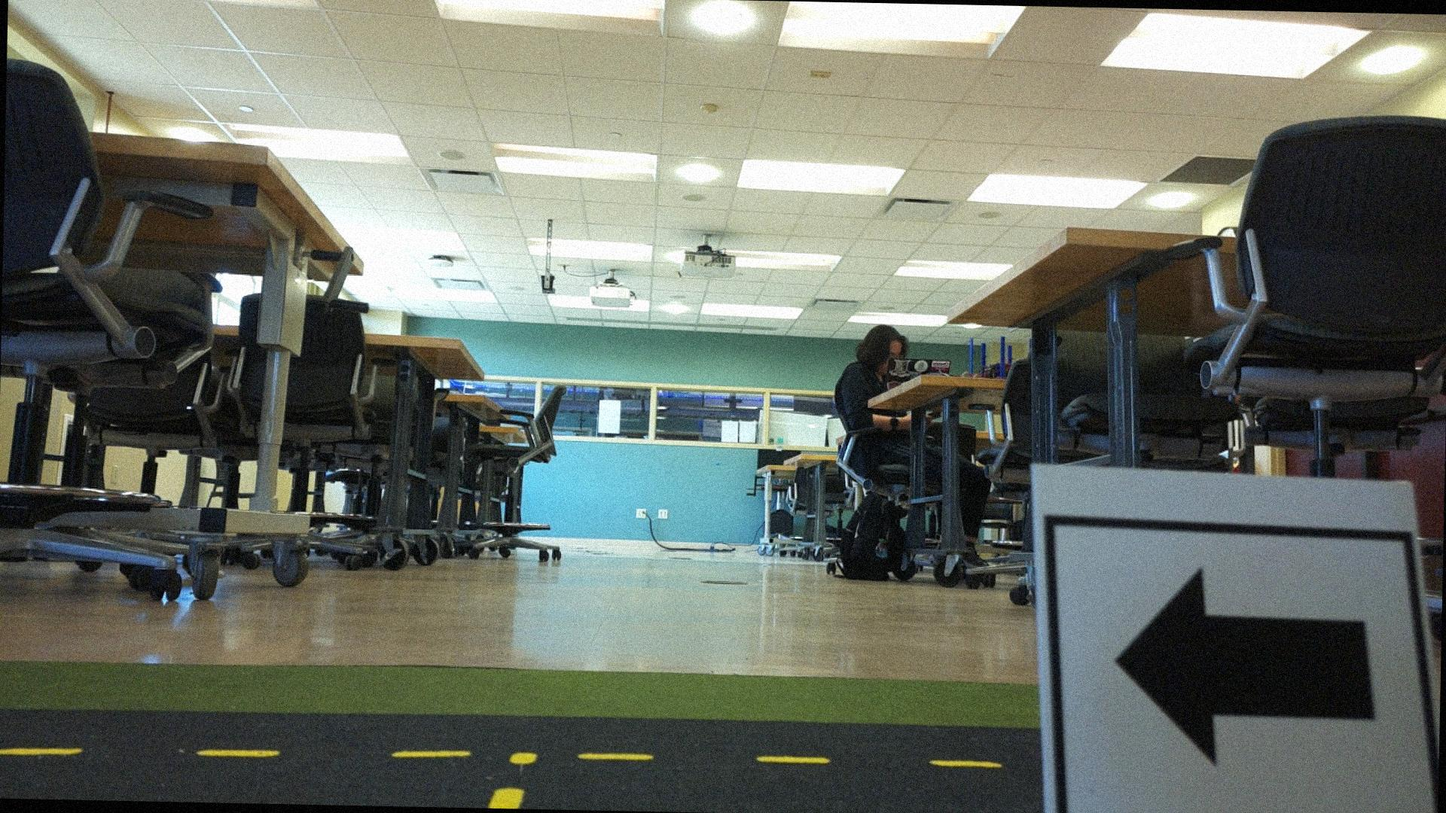turnright: (1049, 525, 1414, 812)
yellowline: (0, 733, 1000, 779), (483, 747, 545, 809)
